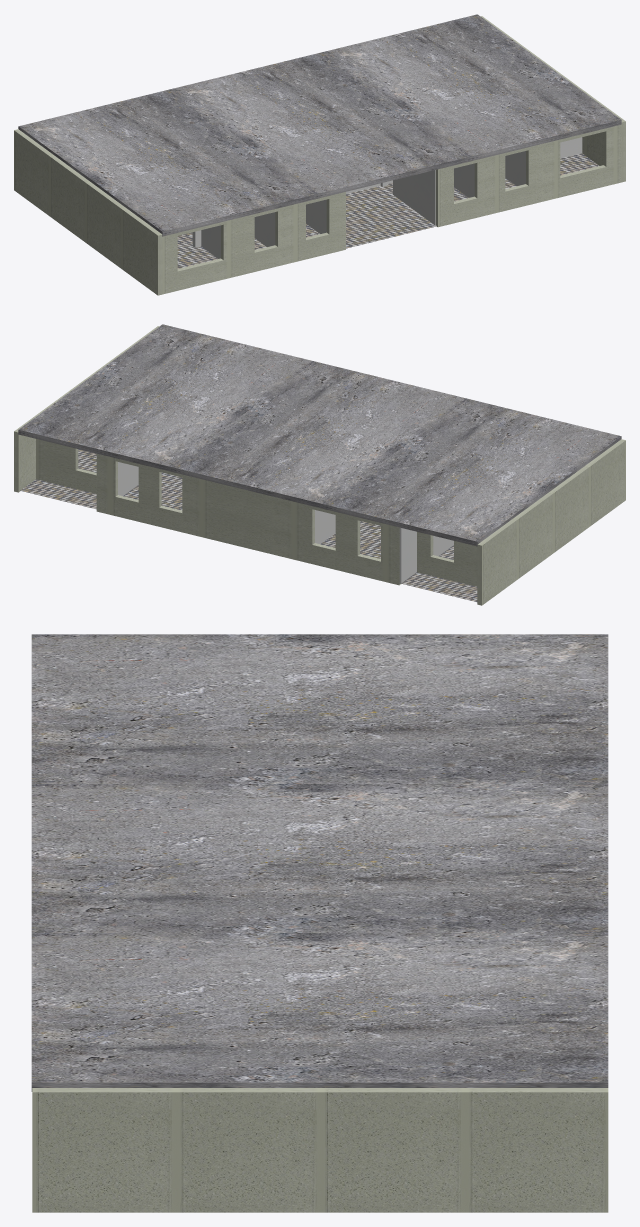
Rendered from lakotomb.dae.
3 views of the same model, one above another, from view 1: azimuth 30°, elevation 25°; view 2: azimuth 150°, elevation 25°; view 3: azimuth 270°, elevation 25° (orthographic). The views are drawn at different scales.
Parts seen in each view (by area): view 1: Box01, Box02, Box18, Box05, Plane01, Box09, Box03, Box11, Box07, Box10, Box08, Box06; view 2: Box01, Box04, Box02, Plane01, Box03, Box16, Box20, Box15; view 3: Box01, Box03.
Part boxes in pixels (x1,y1,x2,y2): Box01: (18, 14, 621, 236); Box02: (14, 129, 162, 295); Box18: (435, 125, 621, 227); Box05: (162, 192, 345, 294); Plane01: (177, 153, 598, 268); Box09: (380, 170, 435, 225); Box03: (481, 16, 625, 182); Box11: (254, 212, 275, 246); Box07: (505, 151, 525, 185); Box10: (306, 199, 326, 233); Box08: (454, 163, 474, 197); Box06: (201, 225, 220, 258); Box01: (18, 324, 621, 546); Box04: (36, 439, 477, 586); Box02: (477, 439, 625, 605); Plane01: (20, 449, 477, 601); Box03: (14, 326, 159, 492); Box16: (399, 527, 453, 583); Box20: (315, 510, 335, 544); Box15: (118, 462, 138, 495); Box01: (31, 634, 608, 1091); Box03: (32, 1088, 608, 1212).
Size of the model in its own units: 825 by 440 by 106.
